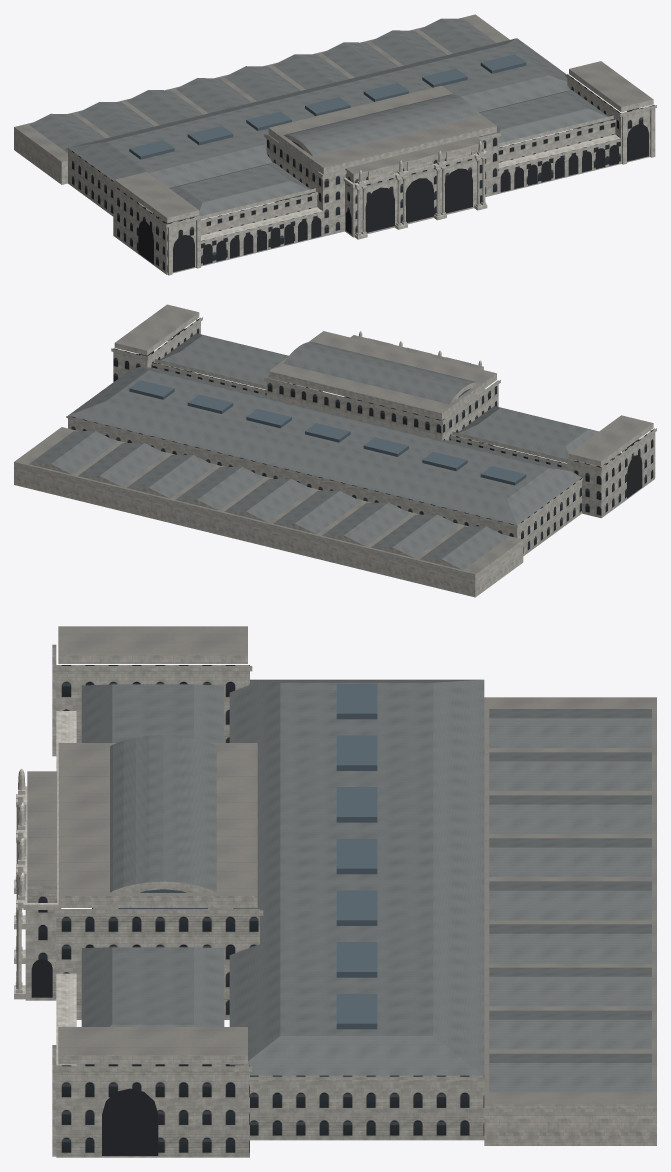
The model's file is union_station.glb.
3 views of the same model, one above another, from view 1: azimuth 30°, elevation 25°; view 2: azimuth 150°, elevation 25°; view 3: azimuth 270°, elevation 25° (orthographic). The views are drawn at different scales.
Visible parts, largest first — view 1: union_station; view 2: union_station; view 3: union_station.
Part boxes in pixels (<box>): union_station: <box>14,14,656,275</box>; union_station: <box>14,304,656,597</box>; union_station: <box>14,626,656,1157</box>.
Size of the model in its own units: 201 by 29 by 126.
5 materials, 5 textured.
